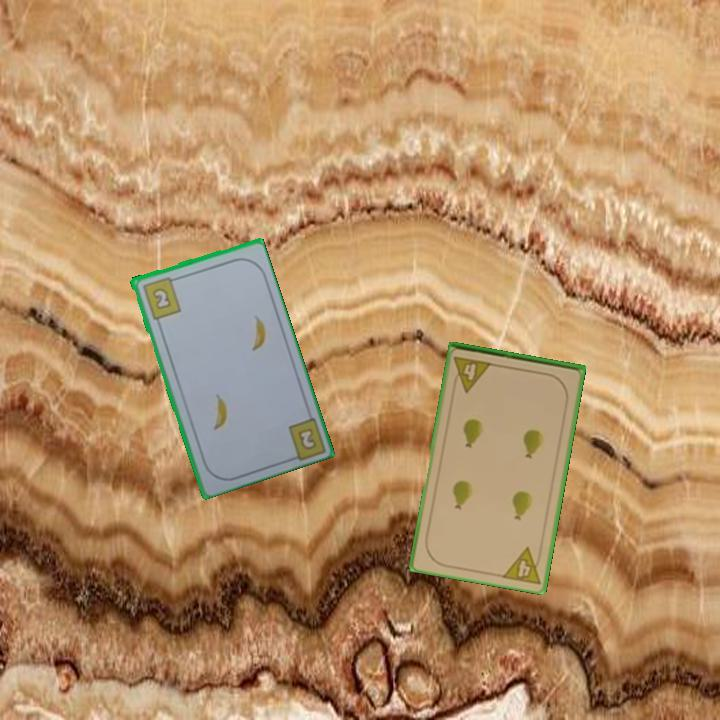2b: (139, 273, 183, 322), (294, 424, 319, 453)
4p: (499, 543, 546, 587), (449, 354, 495, 395)
